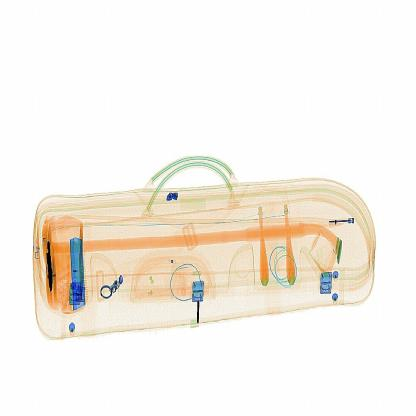pliers: (68, 231, 88, 314)
